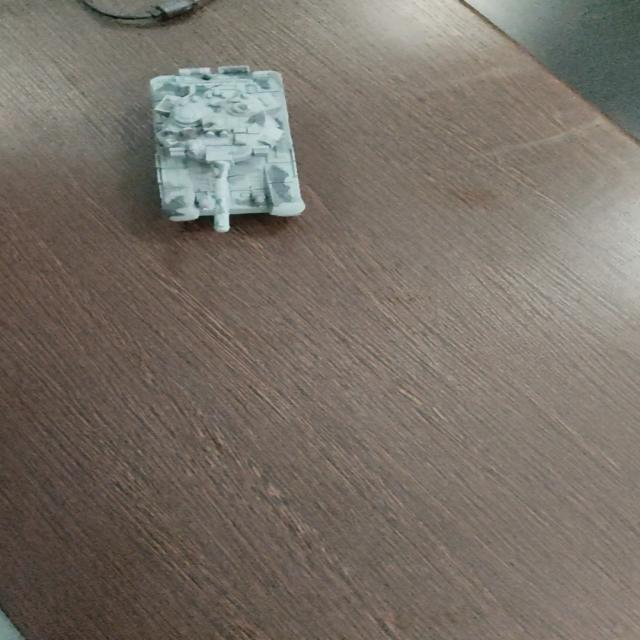tank: (143, 64, 310, 231)
